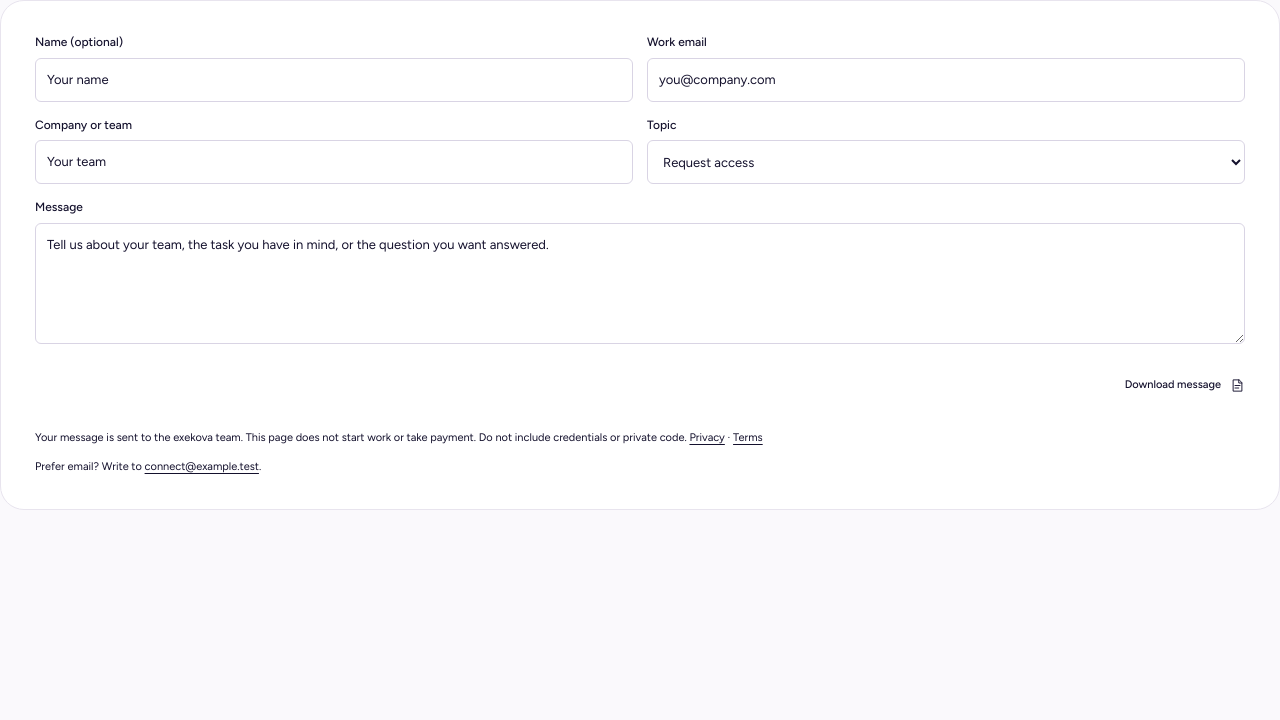
Test: contact requests › sends to the production receiver and clears fields only after acknowledgement
Type "Sam" into the field labelled "Name (optional)" at (334, 80), box [35,58,633,102]
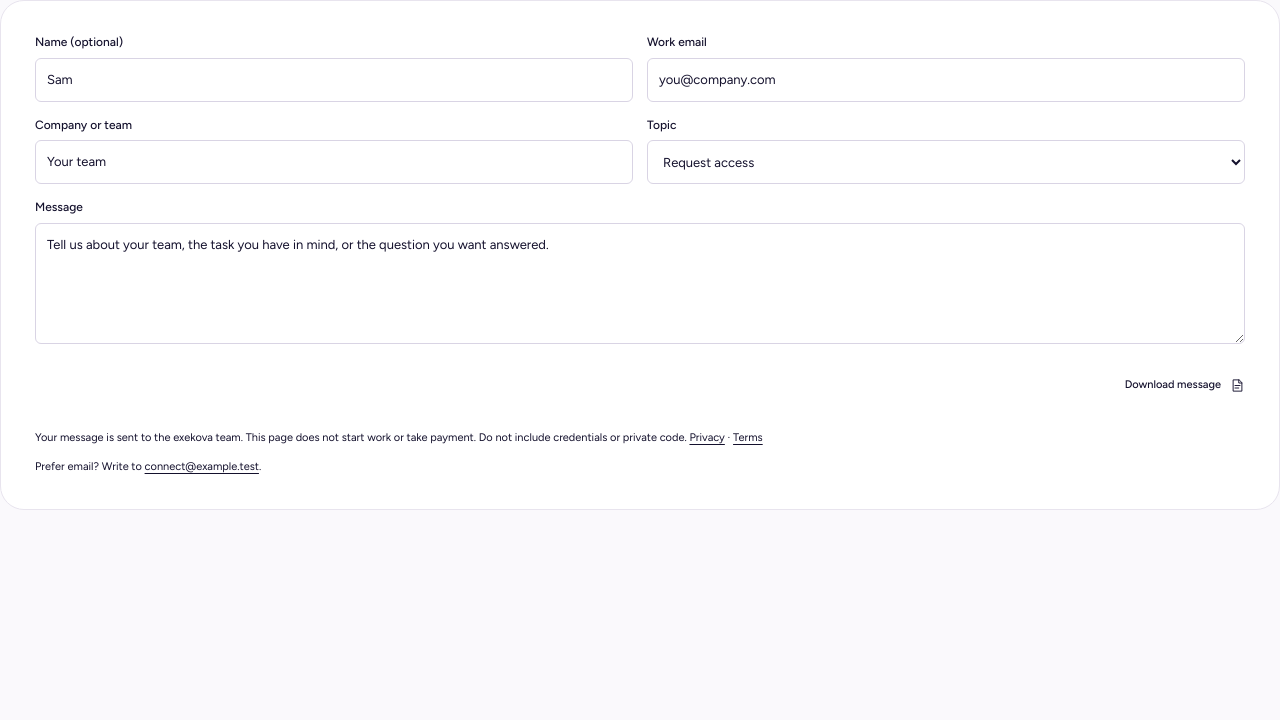
Type "lead@example.test" into the field labelled "Work email" at (946, 80), box [647,58,1245,102]
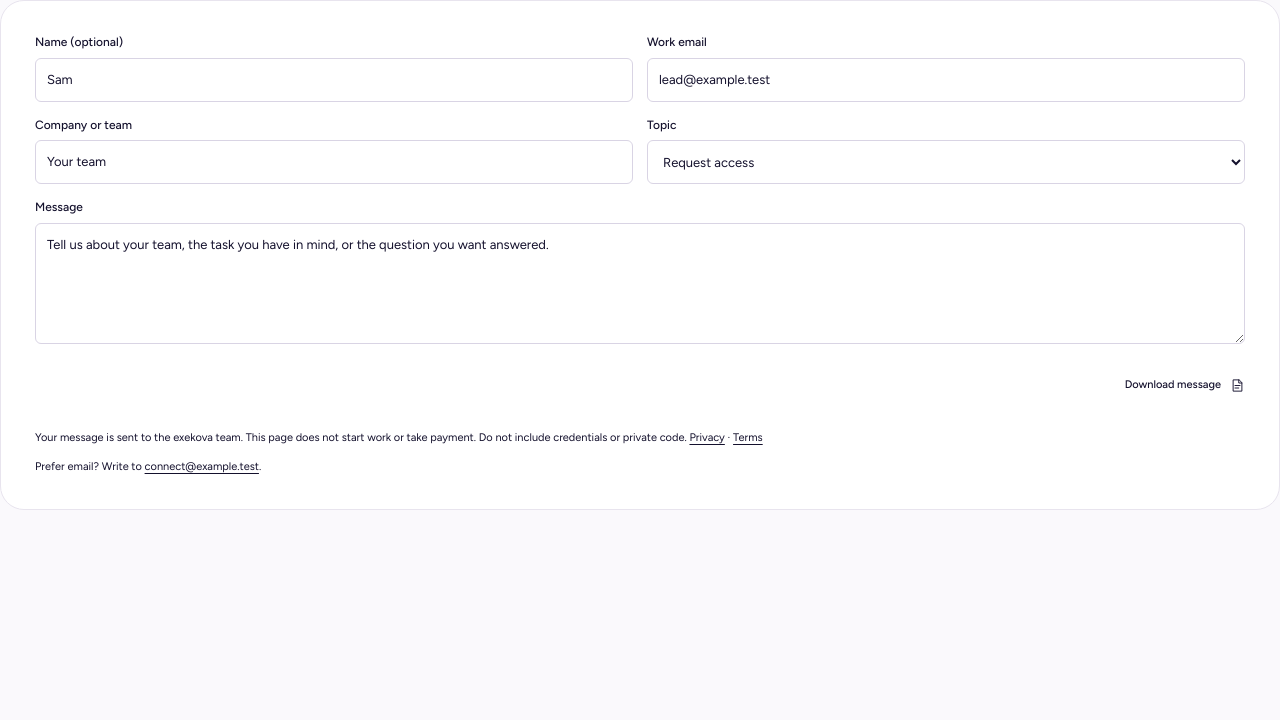
Type "Example team" into the field labelled "Company or team" at (334, 162), box [35,140,633,184]
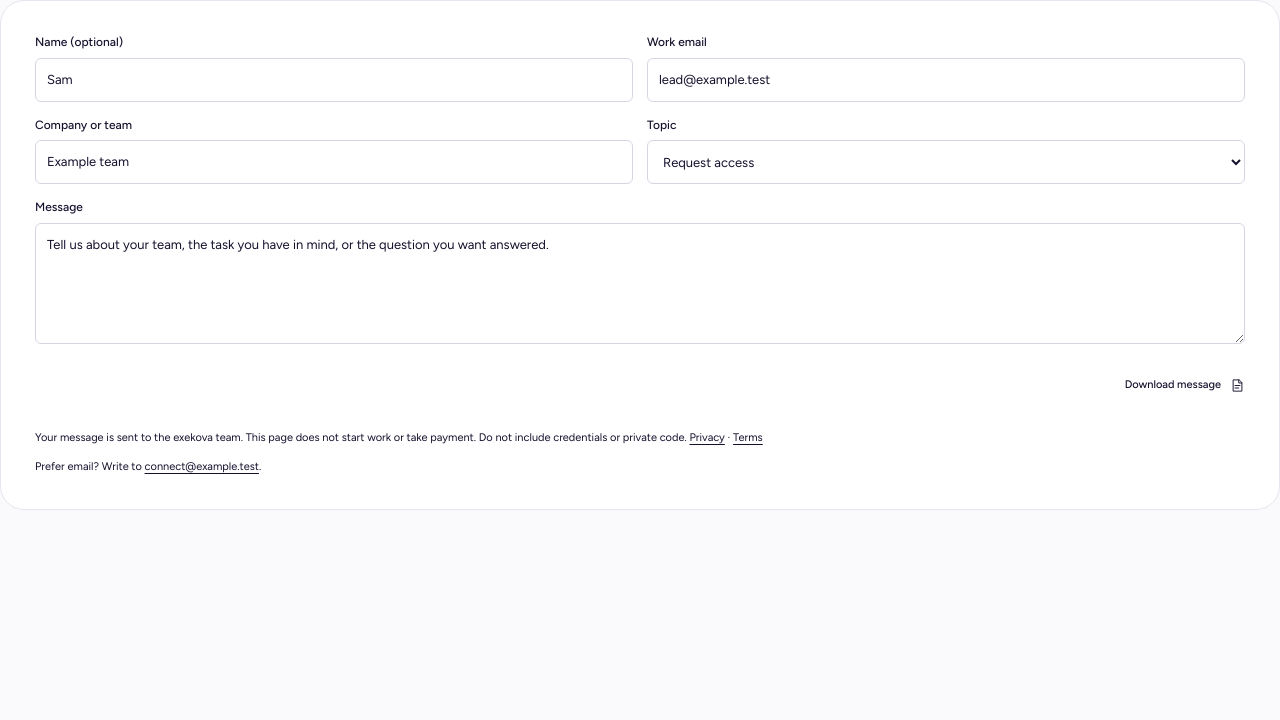
Select "Pricing and invoicing" in the dropdown labelled "Topic" at (946, 162), box [647,140,1245,184]
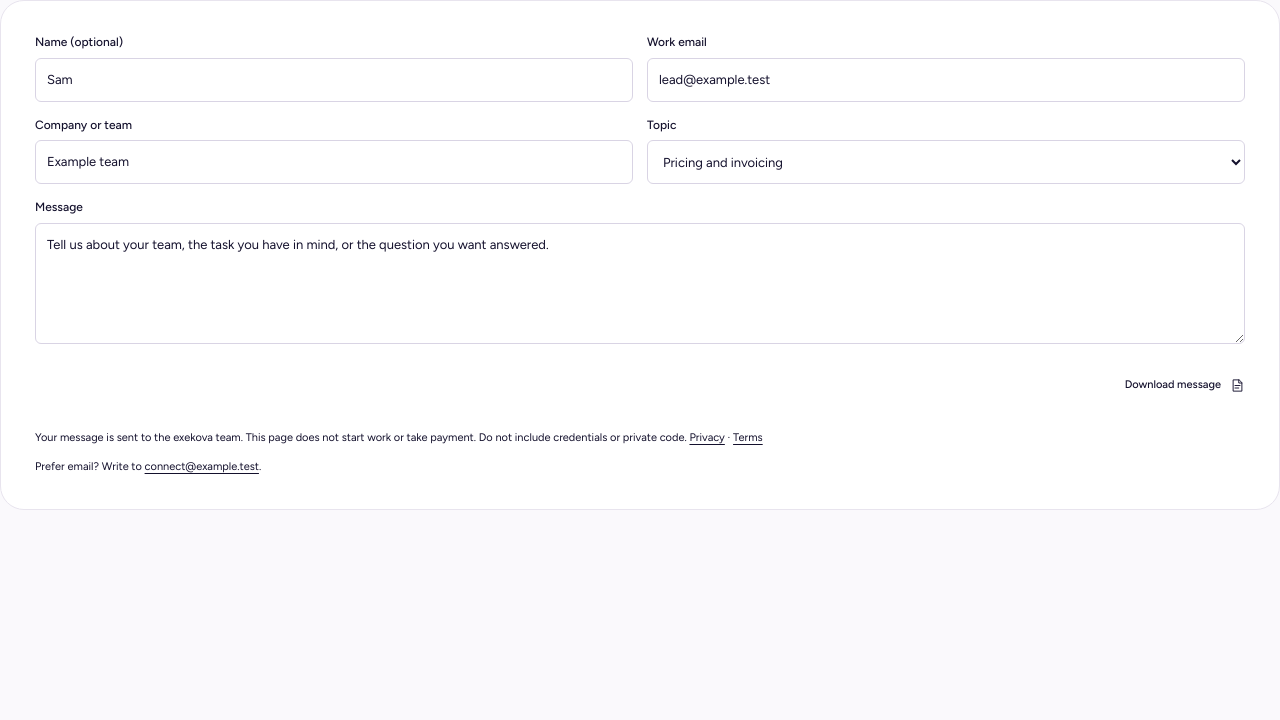
Replace the text in the text box labelled "Message" with "How are accepted tasks invoiced?" at (640, 284), box [35,223,1245,344]
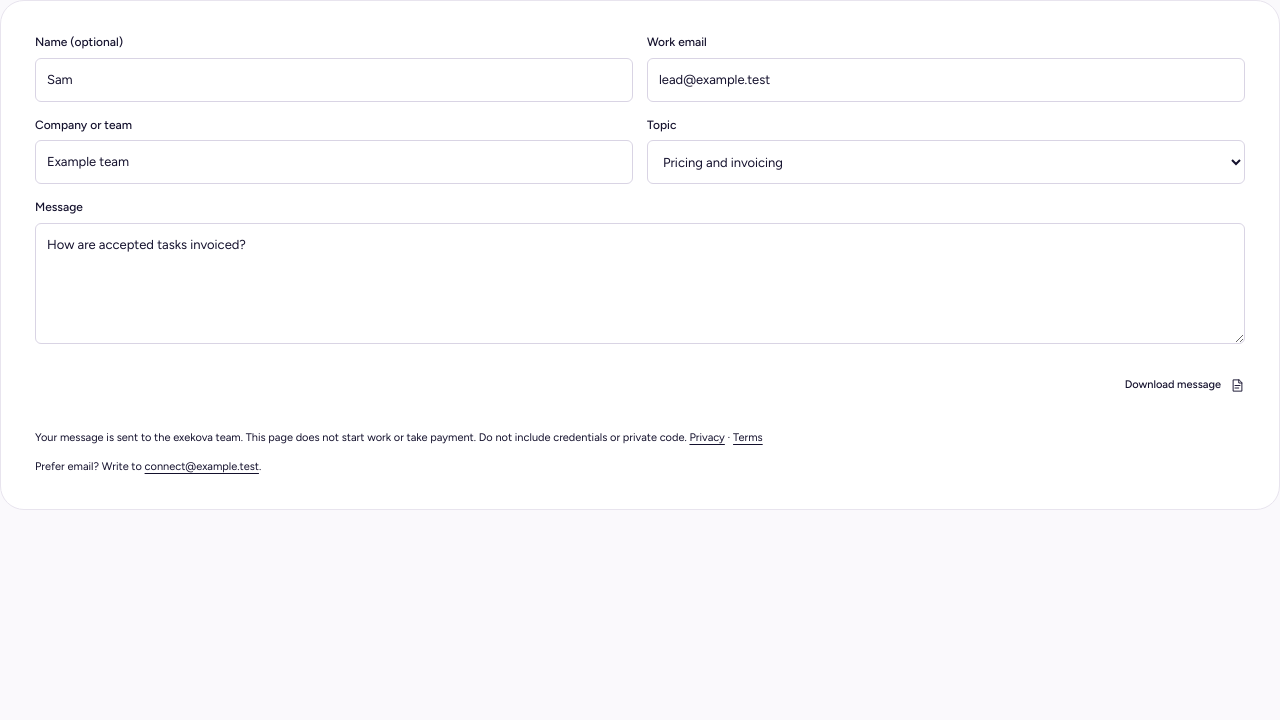
Submit the form named "Contact request"
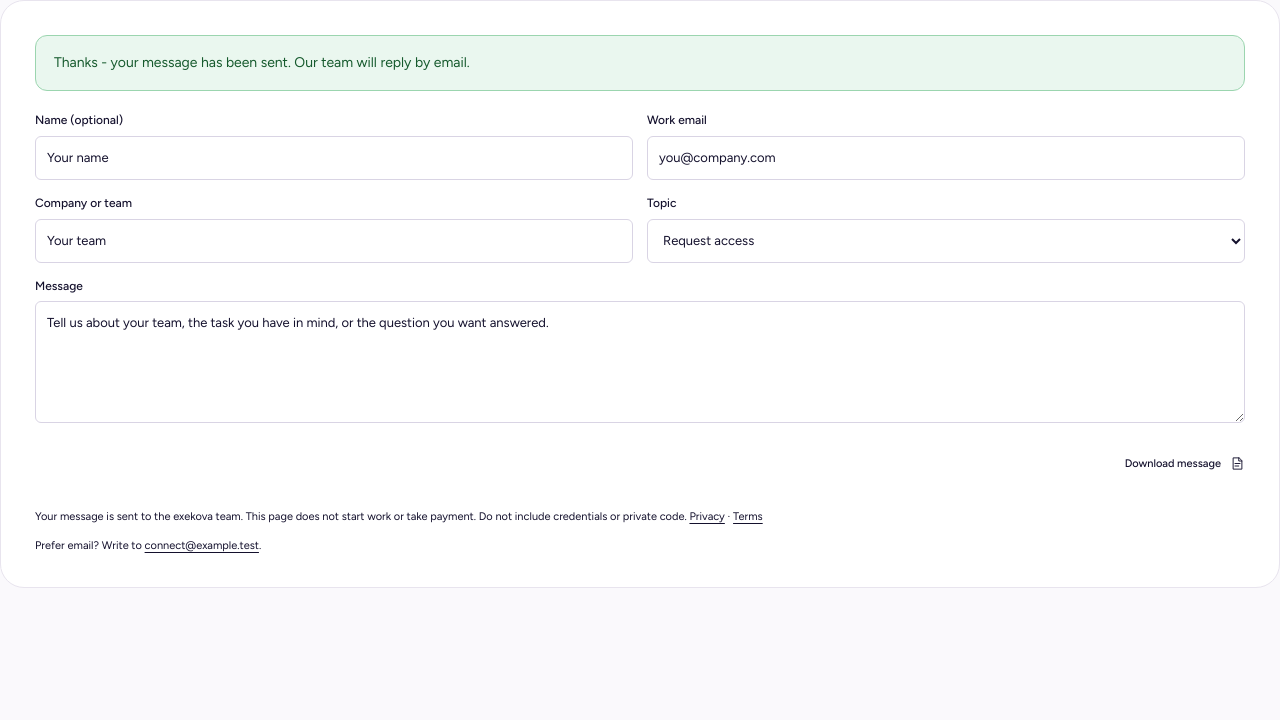
Expected: the message shows "has been sent", [54,54,470,71]
Expected: the text box labelled "Message" is empty, [35,301,1245,423]
